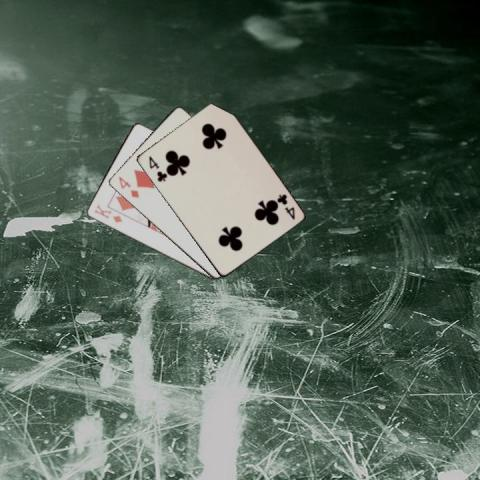4c: (145, 153, 168, 183), (273, 191, 296, 221)
4d: (115, 174, 140, 200)
Kd: (92, 201, 124, 224)
